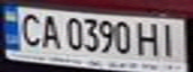0: (115, 18, 136, 56), (63, 15, 84, 52)
3: (81, 16, 100, 53)
9: (97, 18, 118, 55)
A: (36, 11, 63, 50)
C: (15, 10, 45, 48)
H: (133, 19, 163, 57)
I: (154, 20, 184, 57)
